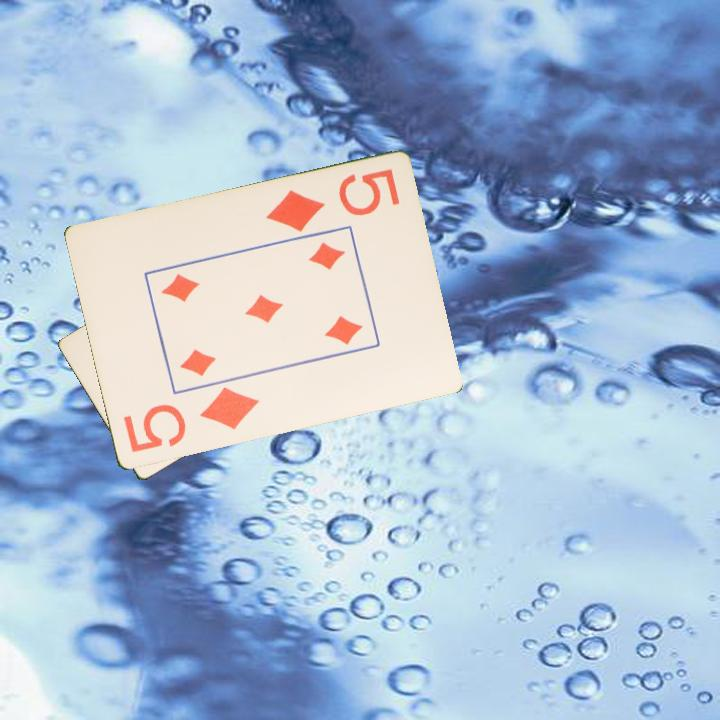5d: (119, 384, 263, 456), (262, 166, 403, 235)
